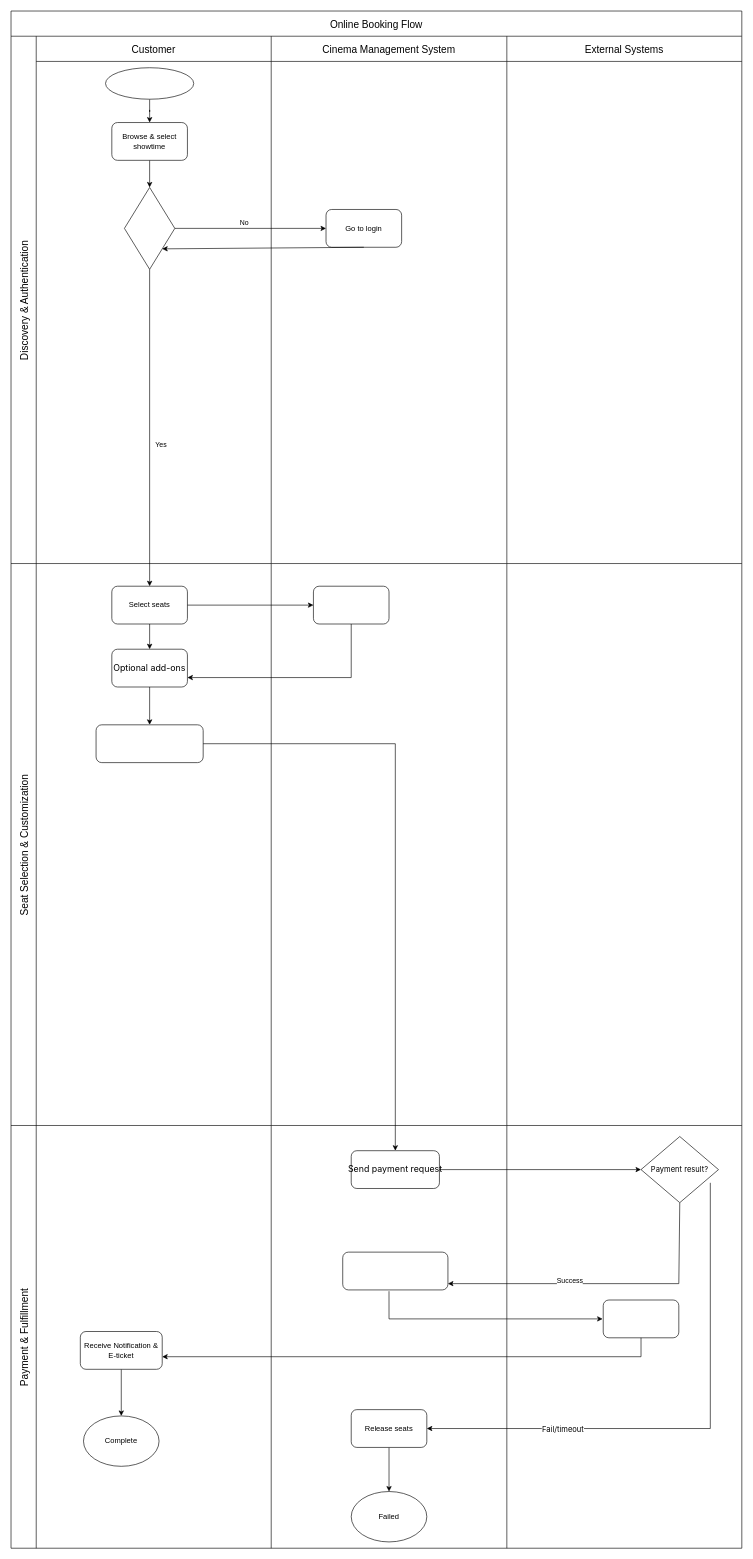
Some shapes in this 753 by 1559 pixel diagram are drawn without their labels. Each missing label, with the box of its shape:
Booking confirmed: (342, 1251, 448, 1290)
Confirm & choose payment: (95, 724, 203, 763)
Lock seats: (313, 586, 389, 624)
Logged in?: (124, 187, 175, 269)
Send QR Code & Email: (603, 1299, 679, 1338)
Start: (105, 67, 194, 99)
